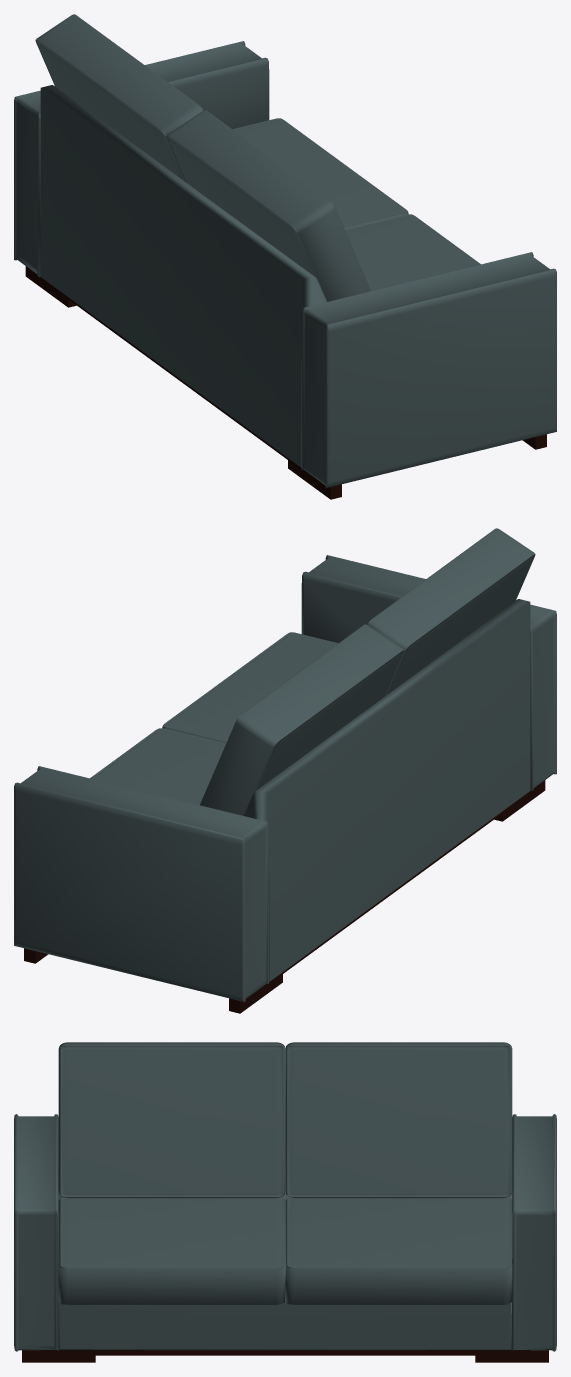
Rendered from SimpleCouch.fbx.
3 views of the same model, one above another, from view 1: azimuth 30°, elevation 25°; view 2: azimuth 150°, elevation 25°; view 3: azimuth 270°, elevation 25° (orthographic). The views are drawn at different scales.
Parts seen in each view (by area): view 1: Sides, MainPart, BackPillows, SeatCushion, SupportFeet; view 2: Sides, MainPart, BackPillows, SeatCushion, SupportFeet; view 3: BackPillows, SeatCushion, Sides, MainPart, SupportFeet.
Part boxes in pixels (x1=…): Sides: x1=14, y1=41, x2=556, y2=487; MainPart: x1=40, y1=85, x2=326, y2=467; BackPillows: x1=35, y1=14, x2=370, y2=301; SeatCushion: x1=232, y1=118, x2=480, y2=290; SupportFeet: x1=25, y1=266, x2=546, y2=499; Sides: x1=14, y1=555, x2=556, y2=1001; MainPart: x1=244, y1=599, x2=530, y2=981; BackPillows: x1=200, y1=528, x2=535, y2=815; SeatCushion: x1=90, y1=632, x2=338, y2=804; SupportFeet: x1=24, y1=780, x2=545, y2=1013; BackPillows: x1=58, y1=1042, x2=512, y2=1198; SeatCushion: x1=58, y1=1197, x2=512, y2=1304; Sides: x1=14, y1=1114, x2=556, y2=1351; MainPart: x1=58, y1=1192, x2=512, y2=1350; SupportFeet: x1=22, y1=1350, x2=548, y2=1362.
Size of the model in its own units: 93.62 by 99.31 by 206.
